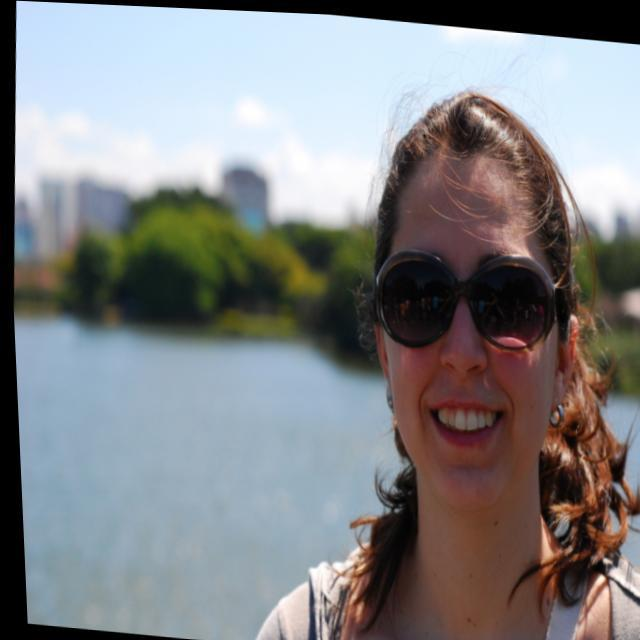Nonhelmet: (358, 86, 588, 530)
